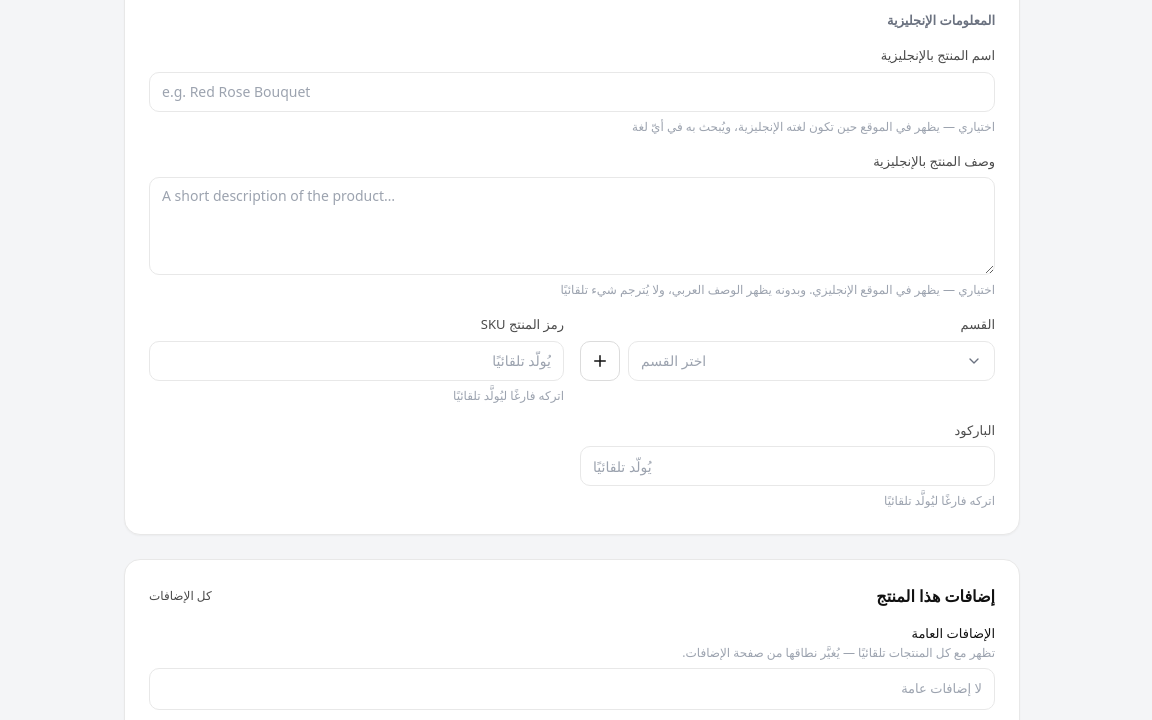
Test: القسمُ باسمين من شاشة المنتج › ورفضُ الخادم يُقال بنصّه — ويبقى الحقلان
(page scrolled)
Step 1. Click the button named "إضافة قسم" → (600, 360), box [580,340,620,380]
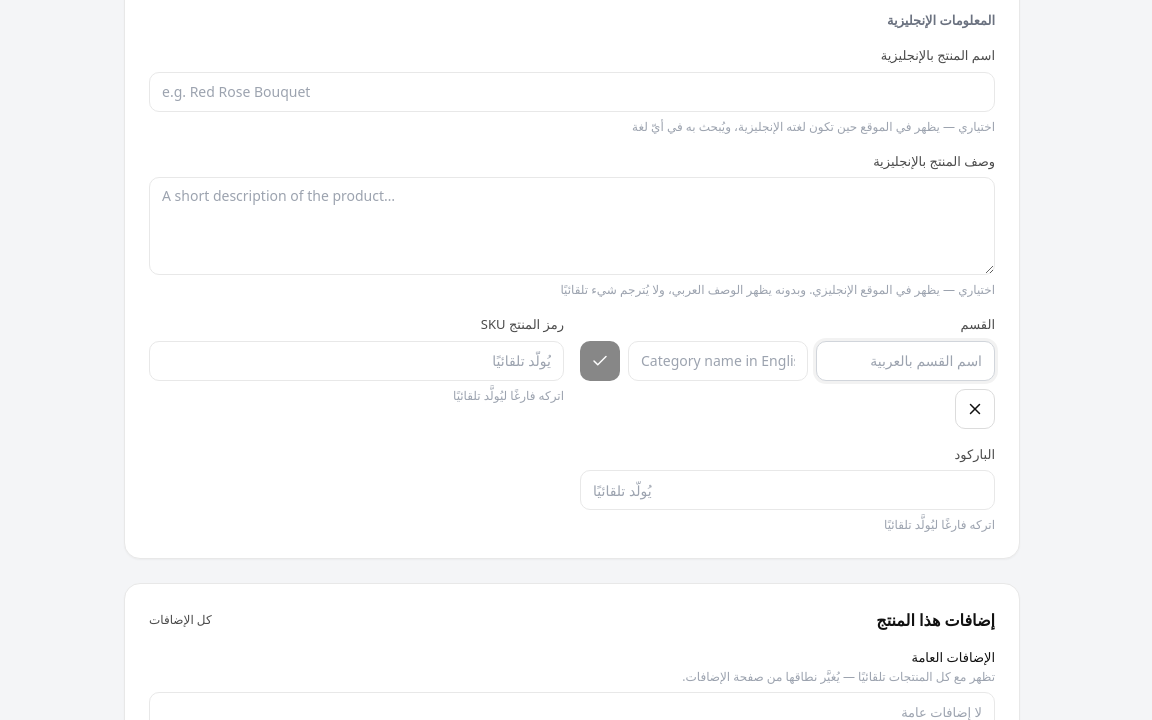
Step 2. Type "هدايا" into the field labelled "اسم القسم بالعربية" → (905, 360), box [816,340,995,380]
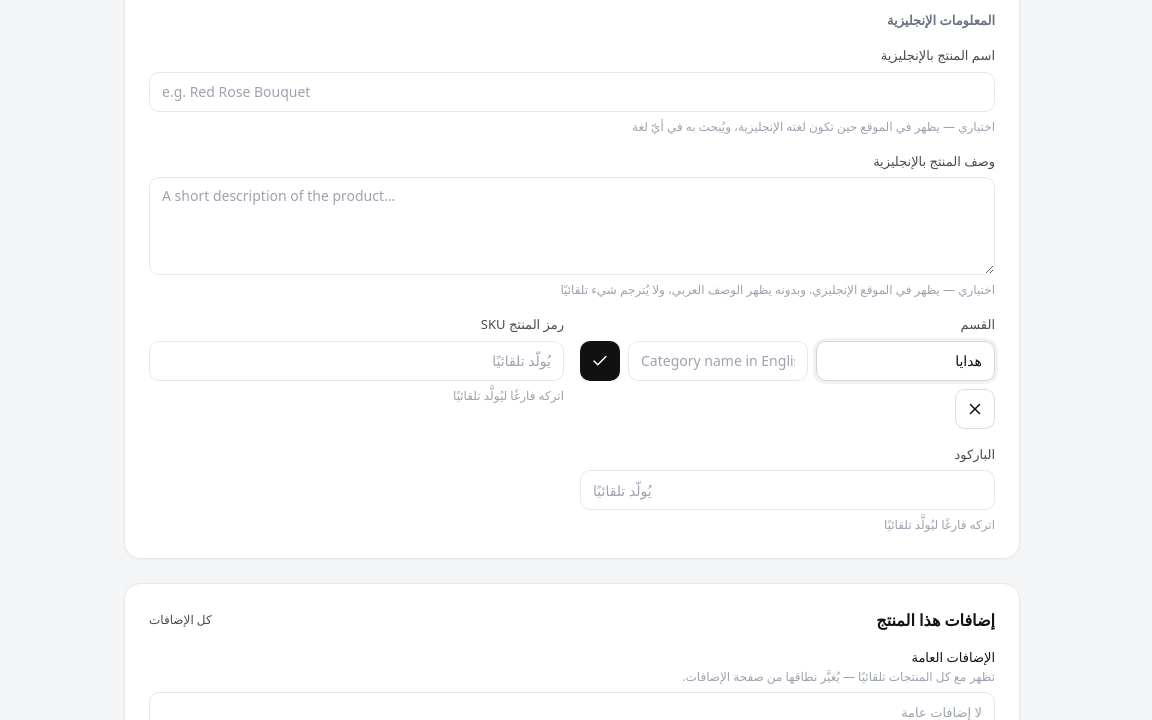
Step 3. Click the button named "حفظ القسم" → (600, 360), box [580,340,620,380]
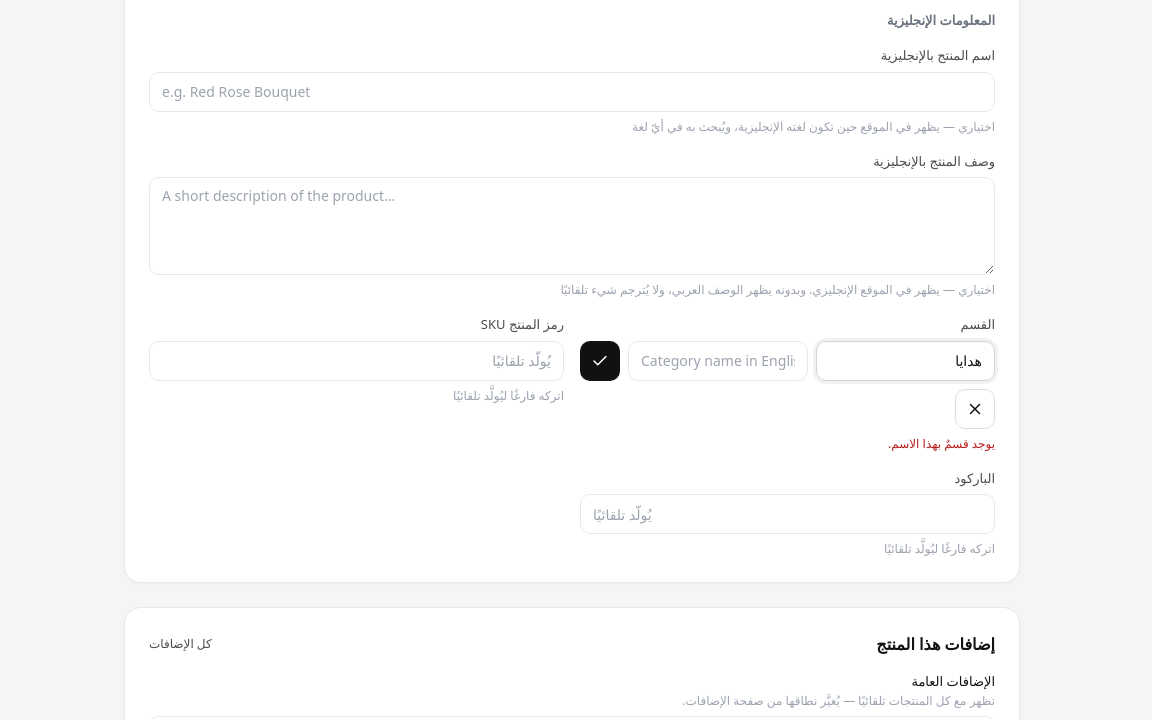
Result: the text "يوجد قسمٌ بهذا الاسم." is shown at [888,434,995,452]
